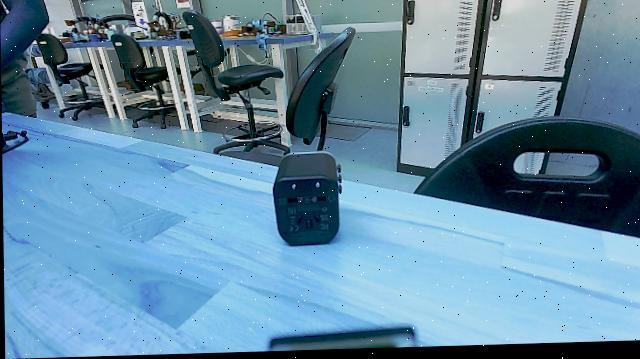adapter: (266, 148, 346, 248)
